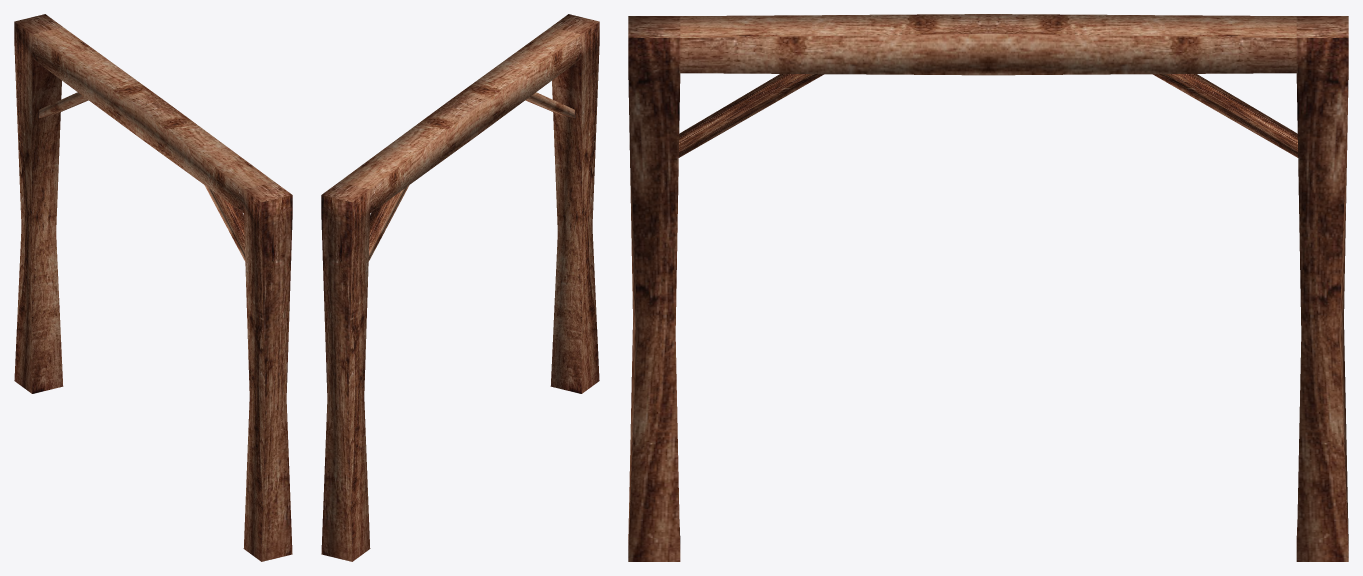
The model's file is SuporteEntrada.fbx.
The picture shows the model from 3 angles, left to right: view 1: azimuth 30°, elevation 25°; view 2: azimuth 150°, elevation 25°; view 3: azimuth 270°, elevation 25°; orthographic projection. The views are drawn at different scales.
Visible parts, largest first — view 1: MastroMadeira.001; view 2: MastroMadeira.001; view 3: MastroMadeira.001.
Boxes of the visible parts, box(x1,y1,x2,y2) form: MastroMadeira.001: box(14, 14, 292, 561); MastroMadeira.001: box(321, 14, 599, 561); MastroMadeira.001: box(628, 14, 1348, 561).
Bounding box in the file's own units: 11.29 × 126 × 156.
